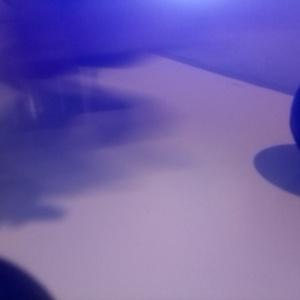dead_ball: (1, 258, 61, 300), (290, 85, 300, 147)
